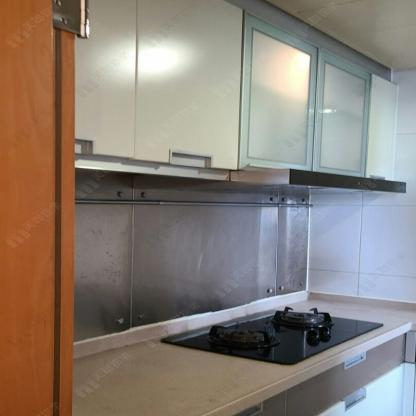Cupboard: (77, 0, 398, 181)
Exhaust Hood: (133, 167, 408, 196)
Stove: (157, 306, 378, 367)
